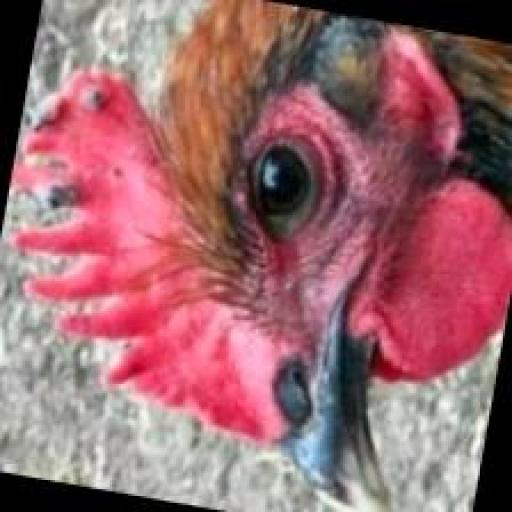disease: (22, 76, 183, 231)
